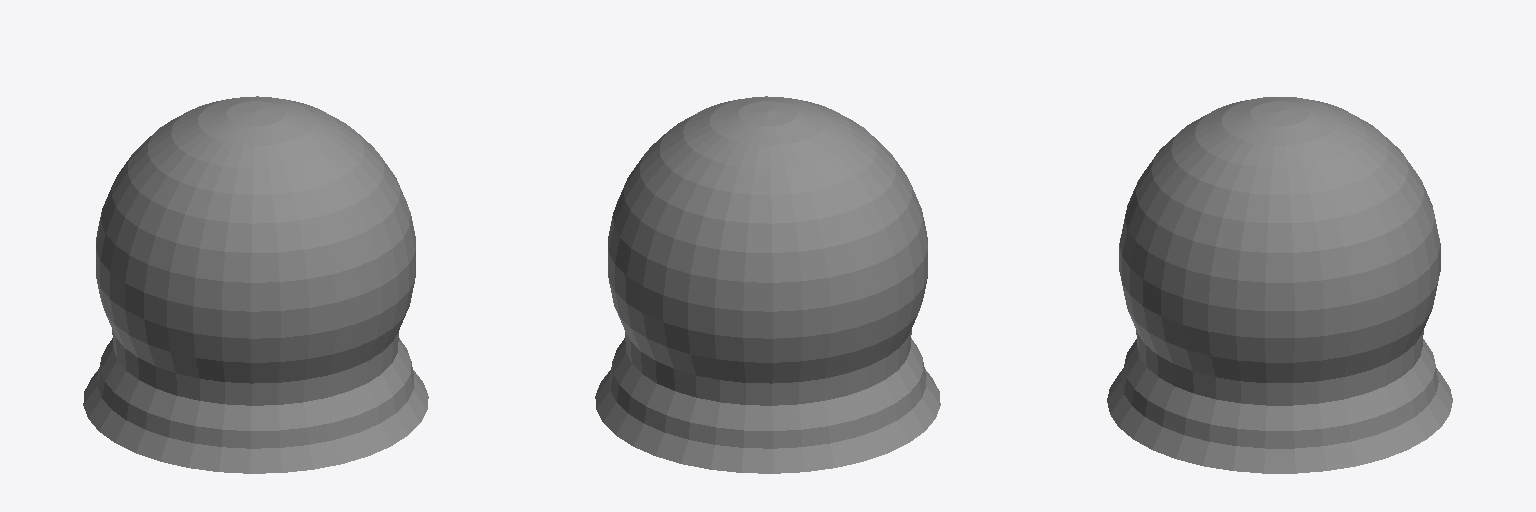
File: Ghost.obj
3 renders of one model, left to right at view 1: azimuth 30°, elevation 25°; view 2: azimuth 150°, elevation 25°; view 3: azimuth 270°, elevation 25°, orthographic.
Visible parts, largest first — view 1: Sphere001; view 2: Sphere001; view 3: Sphere001.
Part boxes in pixels (bbox=[...]): Sphere001: bbox=[83, 96, 428, 473]; Sphere001: bbox=[595, 96, 940, 473]; Sphere001: bbox=[1107, 97, 1452, 473].
Bounding box in the file's own units: 83.59 × 77.53 × 83.95.